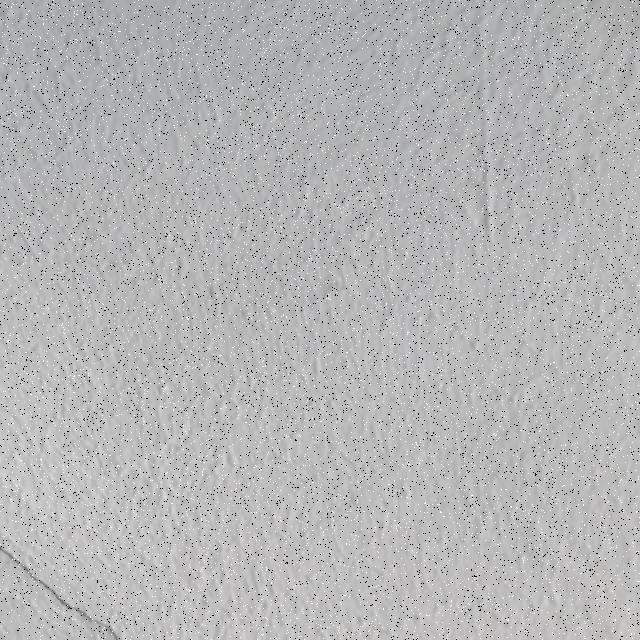minor crack: (5, 362, 640, 639)
moderate crack: (1, 533, 120, 633), (223, 525, 288, 640), (474, 42, 494, 246), (0, 538, 22, 566), (89, 616, 117, 636), (1, 119, 28, 136)
